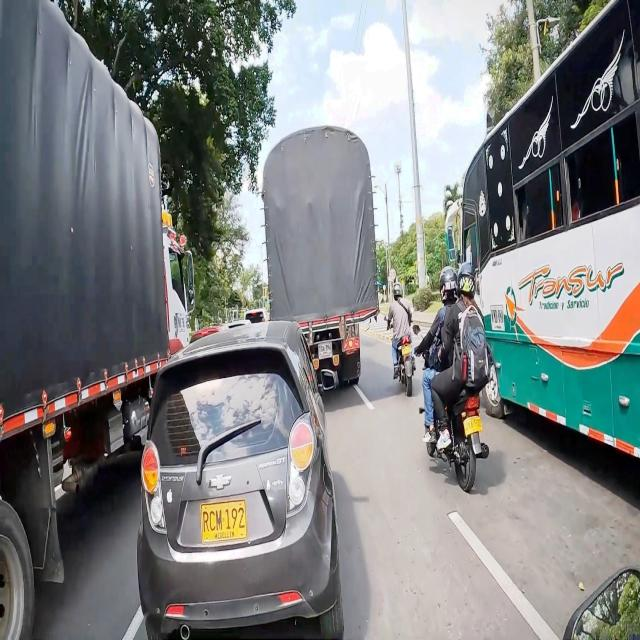license_plate: (199, 498, 248, 544), (489, 305, 506, 331), (462, 417, 483, 434), (318, 342, 333, 358)
